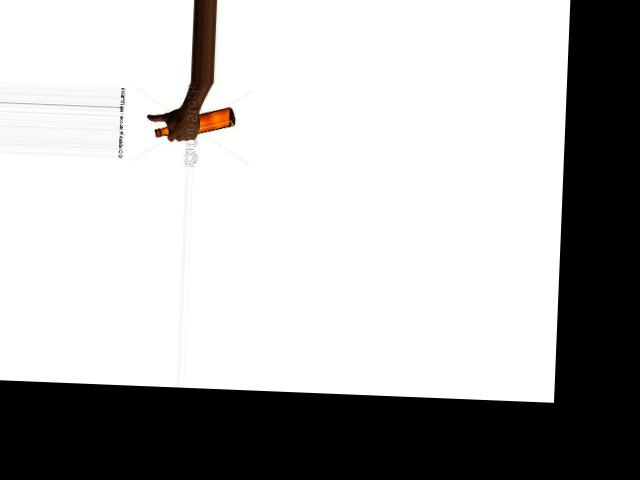beer: (155, 104, 235, 139)
